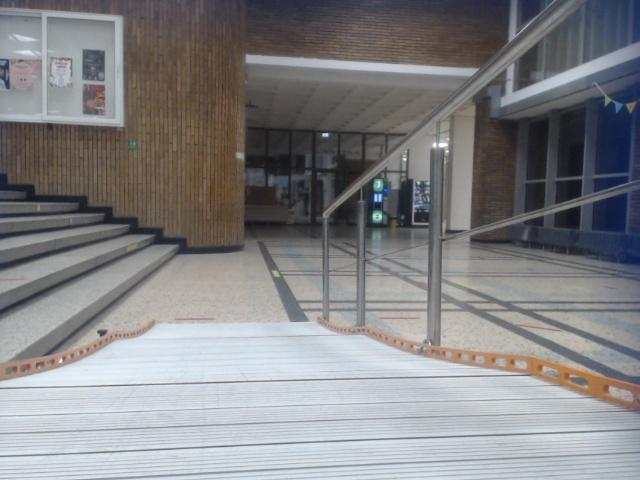rampDown: (0, 316, 639, 479)
ramps-railing: (317, 0, 589, 319), (323, 178, 639, 272), (422, 148, 449, 352), (354, 200, 365, 325)
